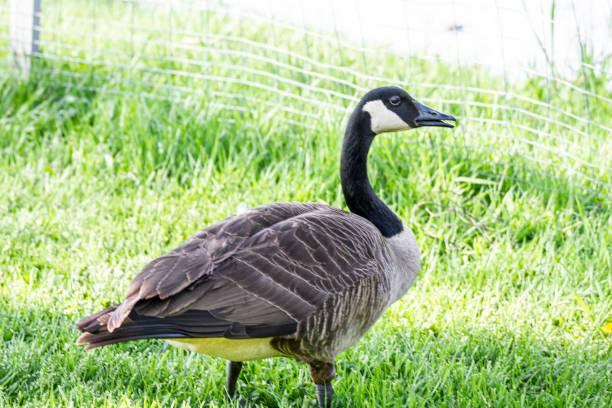Canadian-Goose: (78, 80, 462, 408)
